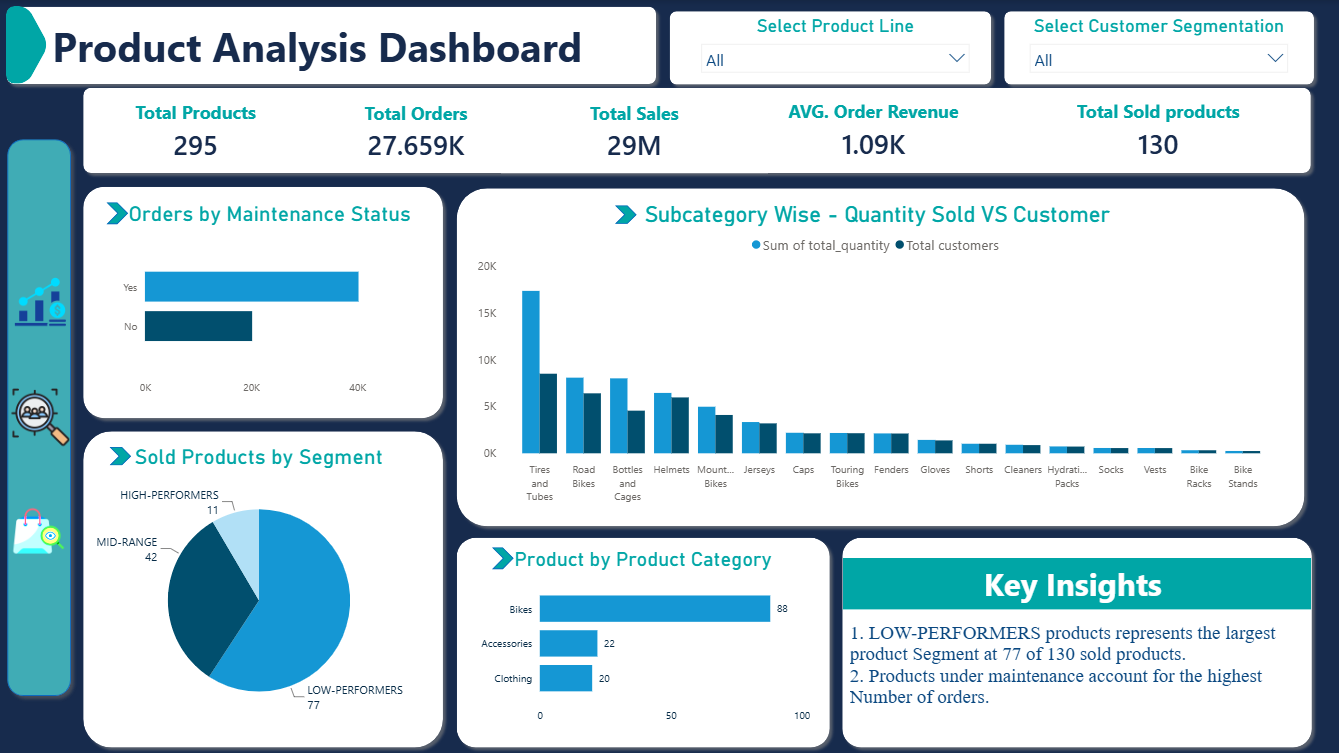

Layout of this report page (visuals, bound fields, positions):
{"tool":"powerbi","page":{"name":"Product","canvas":[1600,900],"ordinal":2},"visuals":[{"type":"shape","box":[0,0,791.2,108.2],"z":0,"group":"g1"},{"type":"group","id":"g1","title":"Group 2","box":[0,0,1576.7,900.7],"z":0},{"type":"shape","box":[791.3,6,399.6,103.4],"z":1000,"group":"g1"},{"type":"textbox","box":[57.7,16.8,699.8,81.8],"z":1000},{"type":"shape","box":[1191,6,385.7,103.4],"z":2000,"group":"g1"},{"type":"pieChart","title":"Sold Products by Segment","fields":{"Category":["Gold product_report.product_segmentation"],"Y":["CountNonNull(Gold product_report.product_key)"]},"box":[107.8,529.6,402.8,344.2],"z":2000},{"type":"clusteredColumnChart","title":"Subcategory Wise - Quantity Sold VS Customer","fields":{"Category":["Gold product_report.Subcategory"],"Y":["Sum(Gold product_report.total_quantity)","_Measures.Total customers"]},"box":[564.7,240.6,966.3,367.8],"z":3000},{"type":"shape","box":[536.8,634.3,461.3,266.4],"z":3000,"group":"g1"},{"type":"slicer","title":"Select Product Line","fields":{"Values":["Gold dim_product.product_line"]},"box":[827.1,17.9,340,79.5],"z":4000},{"type":"slicer","title":"Select Customer Segmentation","fields":{"Values":["Gold cust_report.customer_segment"]},"box":[1218.8,17.9,328.1,79.5],"z":5000},{"type":"shape","box":[536.8,216.7,1027.9,419.5],"z":5000,"group":"g1"},{"type":"shape","box":[91.5,507,445.4,393.7],"z":6000,"group":"g1"},{"type":"cardVisual","title":"Key Insights","fields":{"Data":["_Measures.Product Insights"]},"box":[998.1,680,602.4,220.7],"z":6000},{"type":"cardVisual","fields":{"Data":["Count(Gold dim_product.product_id)"]},"box":[107.4,109.4,252.5,93.4],"z":7000},{"type":"shape","box":[91.5,214.7,445.4,292.3],"z":7000,"group":"g1"},{"type":"cardVisual","fields":{"Data":["Count(Gold fact_sales.Order_number)"]},"box":[346,109.4,302.2,95.4],"z":8000},{"type":"shape","box":[998.1,634.3,576.6,266.4],"z":8000,"group":"g1"},{"type":"shape","box":[91.6,97.4,1481.4,117.8],"z":9000,"group":"g1"},{"type":"cardVisual","fields":{"Data":["Sum(Gold fact_sales.sales_amount)"]},"box":[598.5,107.4,318.1,99.4],"z":9000},{"type":"cardVisual","fields":{"Data":["Avg(Gold product_report.avg_order_revenue)"]},"box":[874.8,107.4,334,95.4],"z":10000},{"type":"cardVisual","fields":{"Data":["_Measures.sold products"]},"box":[1216.8,107.4,330.1,95.4],"z":11000},{"type":"shape","box":[8,6,49.7,97.4],"z":12000},{"type":"shape","box":[126.7,242.1,25.8,25.8],"z":13000},{"type":"shape","box":[586.5,654.1,25.8,25.8],"z":14000},{"type":"shape","box":[131,534,25.8,21.9],"z":15000},{"type":"textbox","box":[1007,666.1,558.7,61.6],"z":16000},{"type":"barChart","title":"Product by Product Category","fields":{"Category":["Gold dim_product.category"],"Y":["Count(Gold dim_product.product_id)"]},"box":[564.7,654.1,407.6,218.7],"z":17000},{"type":"barChart","title":"Orders by Maintenance Status","fields":{"Category":["Gold dim_product.maintenance"],"Y":["CountNonNull(Gold fact_sales.Order_number)"]},"box":[140,240.2,365,240.2],"z":18000},{"type":"shape","box":[733.7,244.6,25.8,21.9],"z":19000},{"type":"shape","box":[0,157.1,93.4,682],"z":19001},{"type":"image","box":[11.9,328.1,71.6,67.6],"z":19002},{"type":"image","box":[11.9,449.3,71.6,97.4],"z":19003},{"type":"image","box":[8,600.5,77.5,67.6],"z":19004}]}

Visuals, with their boxes in screenshot pixels (x1, y1, x2, y2), scaled from the page's 1600x900 canvas onto the 1339x753 screenshot:
shape: 0,0,662,91
"Group 2" group: 0,0,1320,752
shape: 662,5,997,92
textbox: 48,14,634,82
shape: 997,5,1320,92
"Sold Products by Segment" pieChart: 90,443,427,731
"Subcategory Wise - Quantity Sold VS Customer" clusteredColumnChart: 473,201,1281,509
shape: 449,531,835,752
"Select Product Line" slicer: 692,15,977,81
"Select Customer Segmentation" slicer: 1020,15,1295,81
shape: 449,181,1309,532
shape: 77,424,449,752
"Key Insights" cardVisual: 835,569,1338,752
cardVisual - Count(Gold dim_product.product_id): 90,92,301,170
shape: 77,180,449,424
cardVisual - Count(Gold fact_sales.Order_number): 290,92,542,171
shape: 835,531,1318,752
shape: 77,81,1316,180
cardVisual - Sum(Gold fact_sales.sales_amount): 501,90,767,173
cardVisual - Avg(Gold product_report.avg_order_revenue): 732,90,1012,170
cardVisual - _Measures.sold products: 1018,90,1295,170
shape: 7,5,48,87
shape: 106,203,128,224
shape: 491,547,512,569
shape: 110,447,131,465
textbox: 843,557,1310,609
"Product by Product Category" barChart: 473,547,814,730
"Orders by Maintenance Status" barChart: 117,201,423,402
shape: 614,205,636,223
shape: 0,131,78,702
image: 10,275,70,331
image: 10,376,70,457
image: 7,502,72,559
